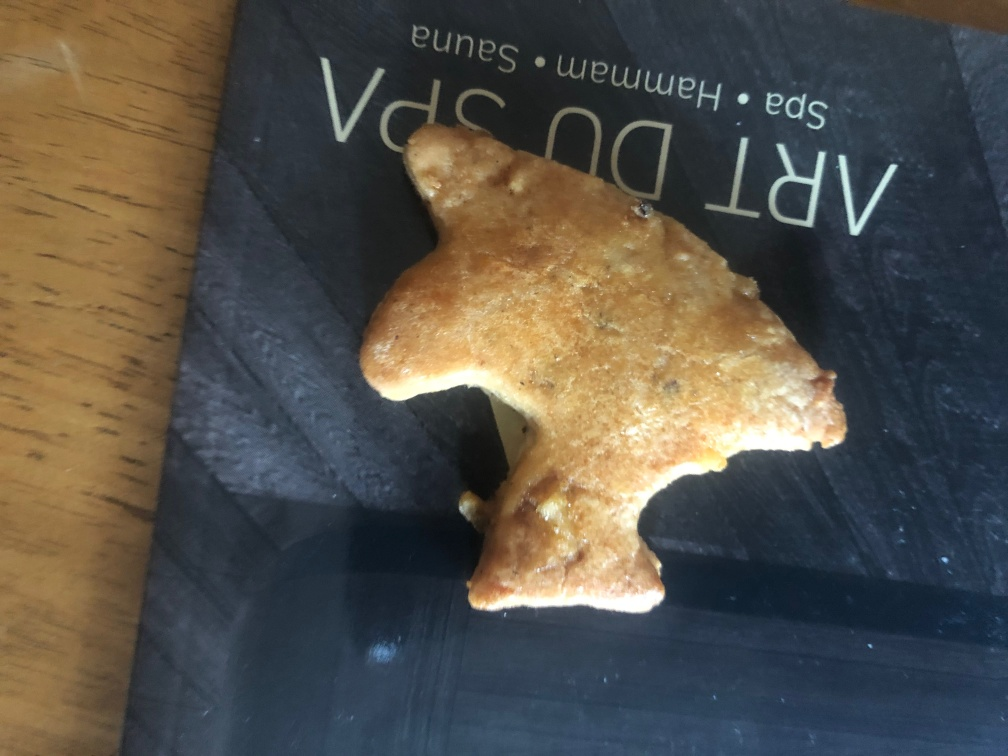lamb: (337, 109, 848, 625)
